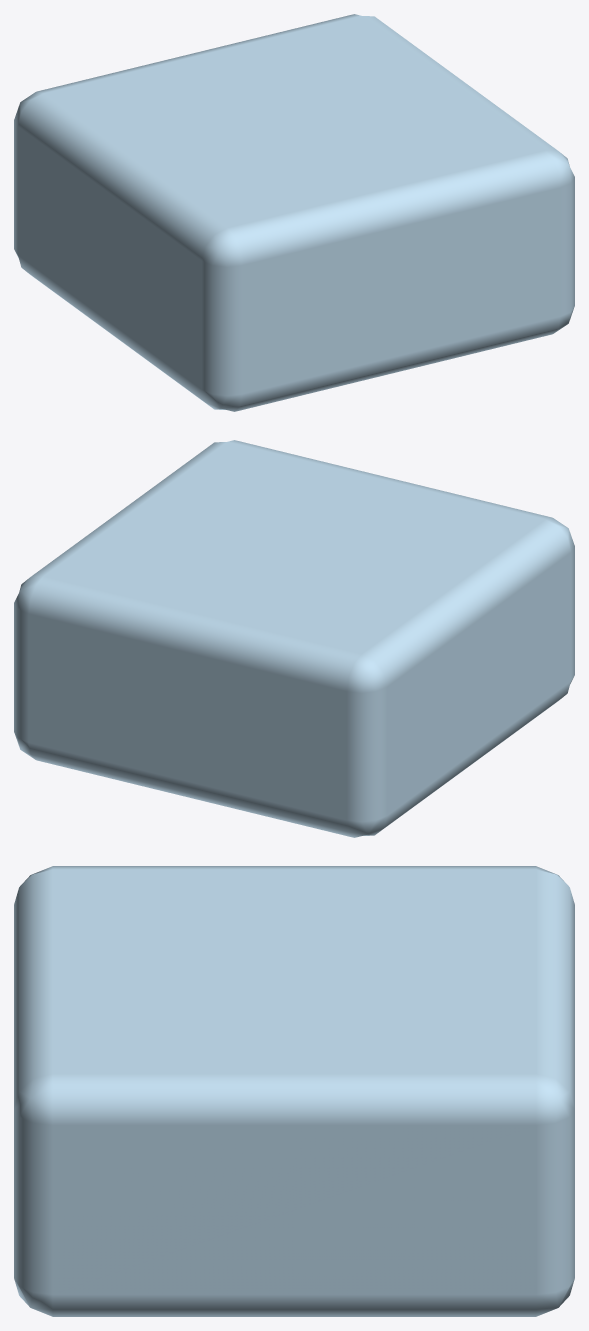
Rendered from R4B_HalfBlock.glb.
3 views of the same model, one above another, from view 1: azimuth 30°, elevation 25°; view 2: azimuth 150°, elevation 25°; view 3: azimuth 270°, elevation 25° (orthographic). The views are drawn at different scales.
Parts seen in each view (by area): view 1: R4B_HalfBlock; view 2: R4B_HalfBlock; view 3: R4B_HalfBlock.
Boxes of the visible parts, box(x1,y1,x2,y2) form: R4B_HalfBlock: box(14, 14, 574, 411); R4B_HalfBlock: box(14, 440, 574, 837); R4B_HalfBlock: box(14, 866, 574, 1316).
Bounding box in the file's own units: 0.52 × 0.245 × 0.52.
